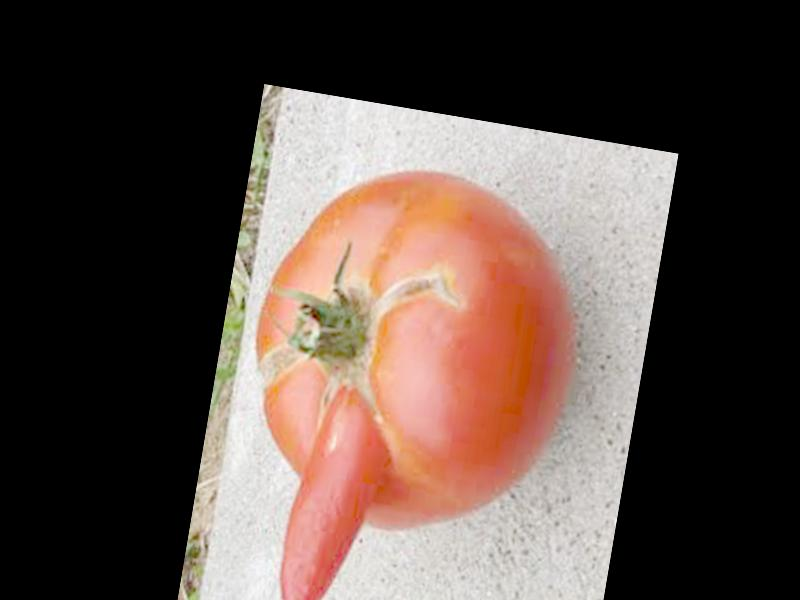Tomato: (227, 143, 591, 554)
